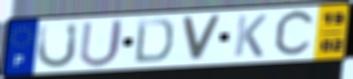C: (271, 7, 318, 61)
D: (132, 17, 176, 65)
K: (231, 13, 269, 58)
U: (77, 18, 126, 69), (35, 21, 80, 70)
V: (179, 14, 224, 63)
